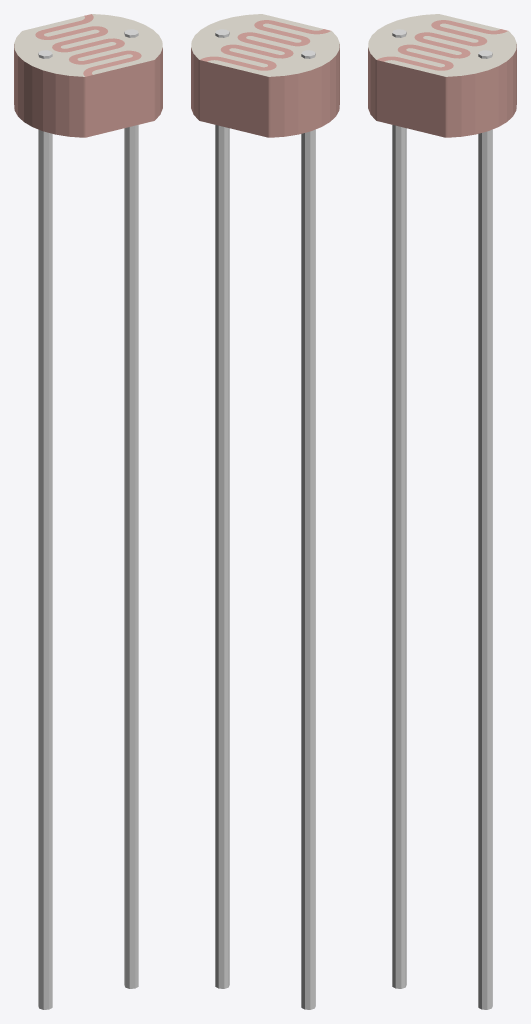
3 views of the same model, side by side, from view 1: azimuth 30°, elevation 25°; view 2: azimuth 150°, elevation 25°; view 3: azimuth 330°, elevation 25° (orthographic).
Parts seen in each view (by area): view 1: Mini_Photocell; view 2: Mini_Photocell; view 3: Mini_Photocell.
Part boxes in pixels (bbox=[...]): Mini_Photocell: bbox=[14, 14, 162, 1009]; Mini_Photocell: bbox=[191, 14, 339, 1009]; Mini_Photocell: bbox=[368, 14, 516, 1009].
Size of the model in its own units: 5.1 by 4.3 by 36.
